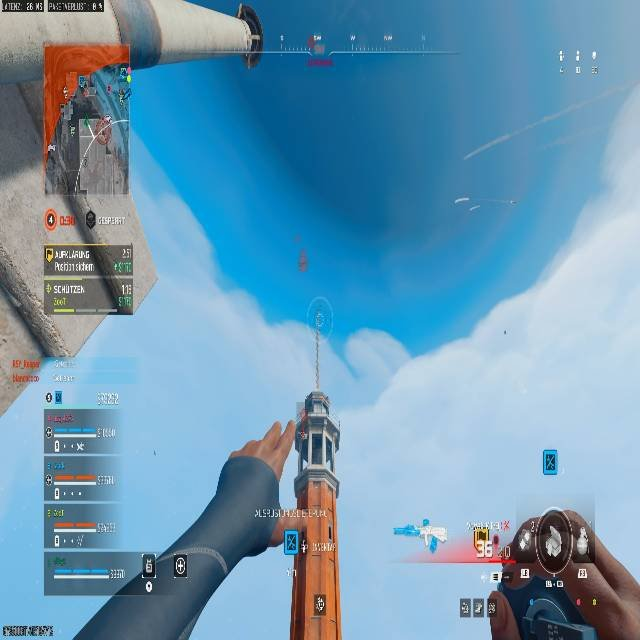player: (490, 535, 499, 554)
